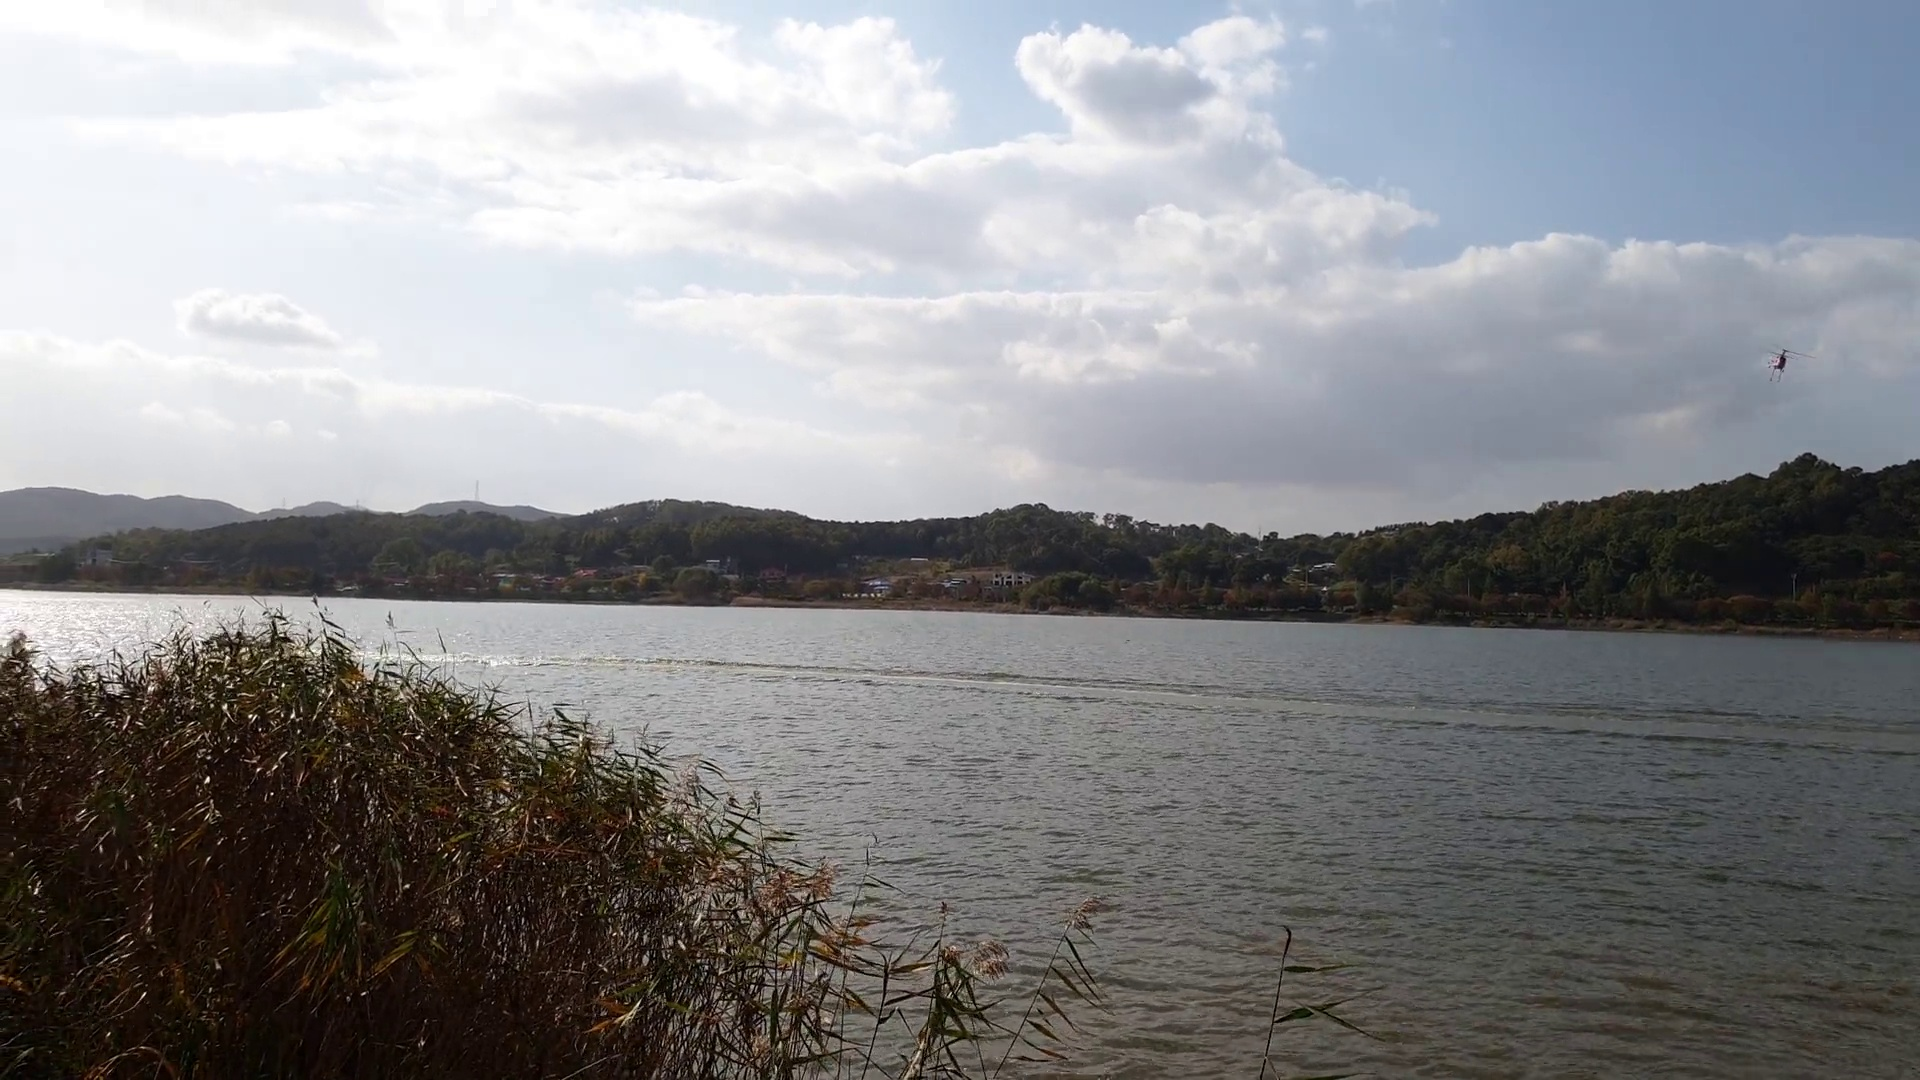heli: (1764, 347, 1815, 372)
